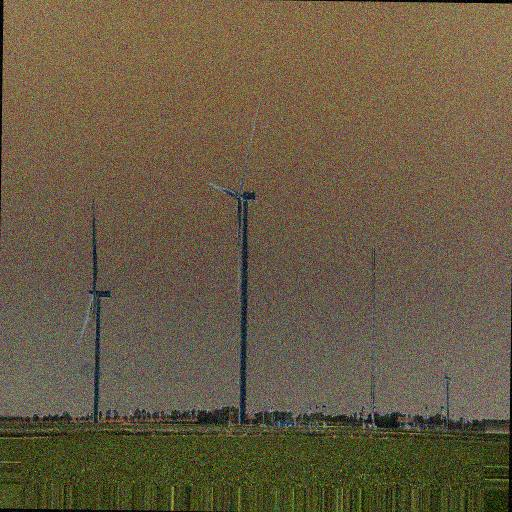wind turbine: (204, 100, 260, 422), (76, 199, 113, 426)
